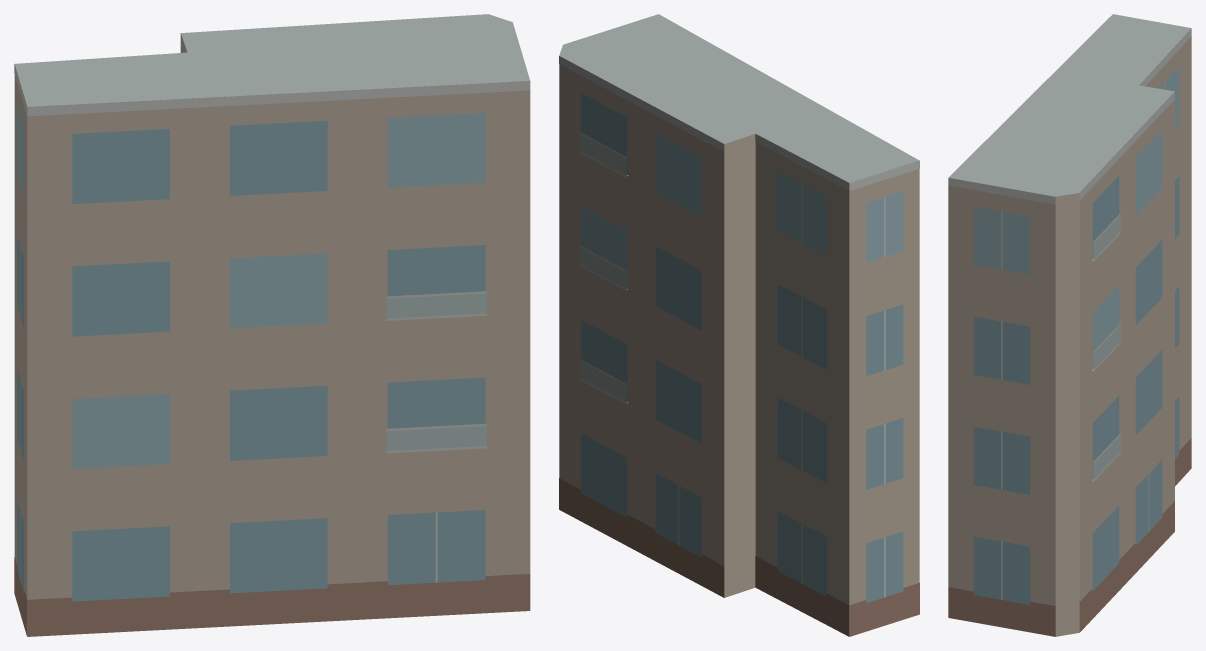
Rendered from survey-upis-32950363.glb.
3 views of the same model, side by side, from view 1: azimuth 30°, elevation 25°; view 2: azimuth 150°, elevation 25°; view 3: azimuth 270°, elevation 25° (orthographic). The views are drawn at different scales.
Parts seen in each view (by area): view 1: survey-upis-32950363.tmp; view 2: survey-upis-32950363.tmp; view 3: survey-upis-32950363.tmp.
Part boxes in pixels (left/top/right/bottom): survey-upis-32950363.tmp: left=14, top=14, right=530, bottom=636; survey-upis-32950363.tmp: left=559, top=14, right=919, bottom=636; survey-upis-32950363.tmp: left=948, top=14, right=1191, bottom=636.
Bounding box in the file's own units: 12.21 × 13.7 × 6.88.
